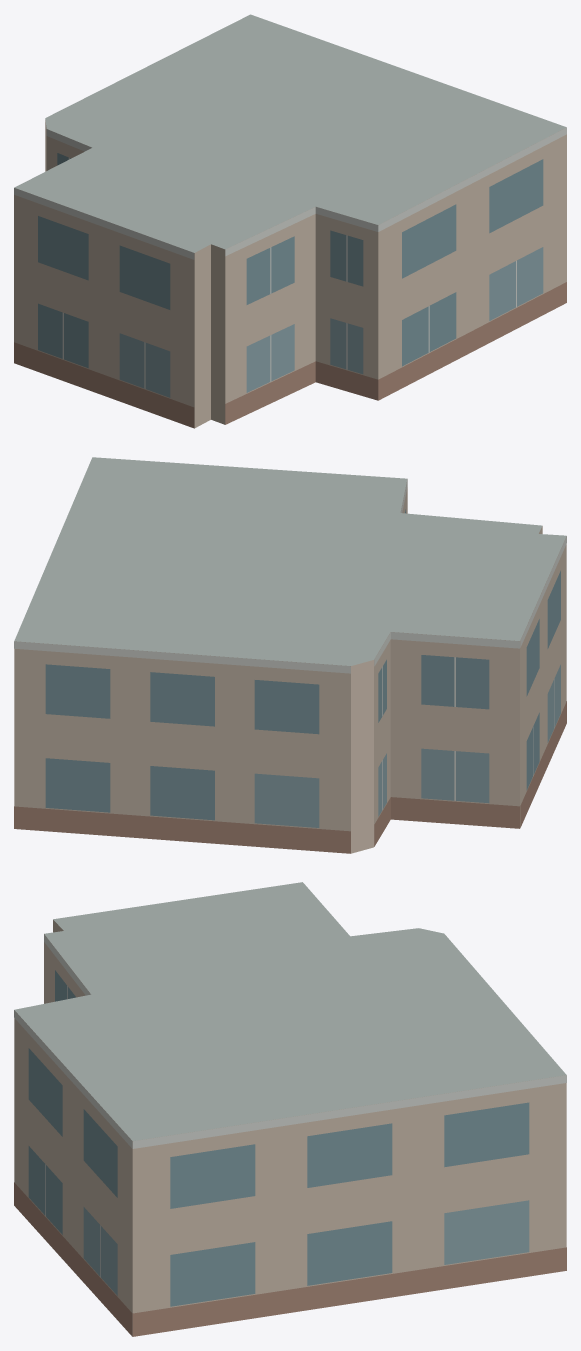
The model's file is survey-upis-32834471.glb.
3 renders of one model, top to bottom at view 1: azimuth 30°, elevation 25°; view 2: azimuth 150°, elevation 25°; view 3: azimuth 270°, elevation 25°, orthographic. The views are drawn at different scales.
Visible parts, largest first — view 1: survey-upis-32834471.tmp; view 2: survey-upis-32834471.tmp; view 3: survey-upis-32834471.tmp.
Part boxes in pixels (x1=…): survey-upis-32834471.tmp: x1=14, y1=14, x2=566, y2=428; survey-upis-32834471.tmp: x1=14, y1=457, x2=566, y2=853; survey-upis-32834471.tmp: x1=14, y1=882, x2=566, y2=1336.
Size of the model in its own units: 17.34 by 6.1 by 15.63.
